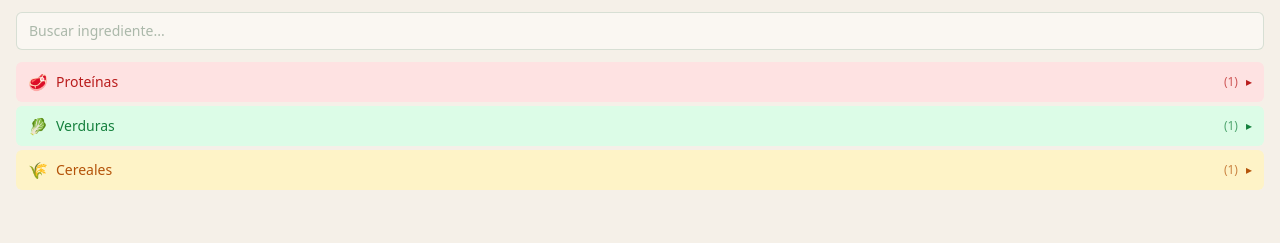
Test case: IngredientPicker › collapses a category when expanded header is clicked again
This screenshot has width=1280, height=243.
Step 1. Click the text "Verduras" → (85, 126), box x1=56 y1=116 x2=115 y2=135
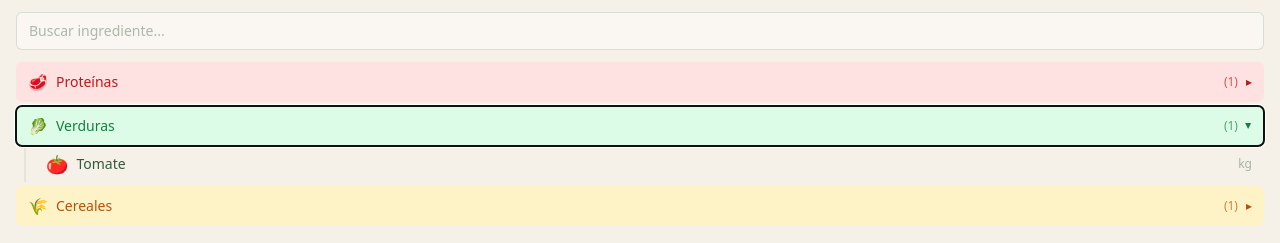
expect the text "Tomate" is shown: met, box x1=76 y1=154 x2=126 y2=173
Step 2. Click the text "Verduras" → (85, 126), box x1=56 y1=116 x2=115 y2=135
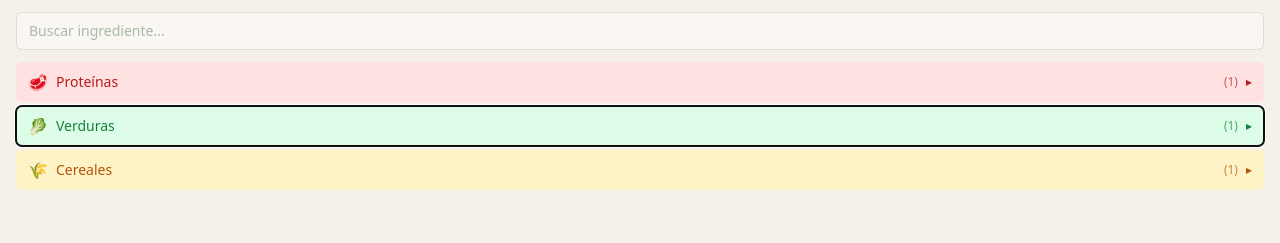
expect the button "Tomate" is gone: met
